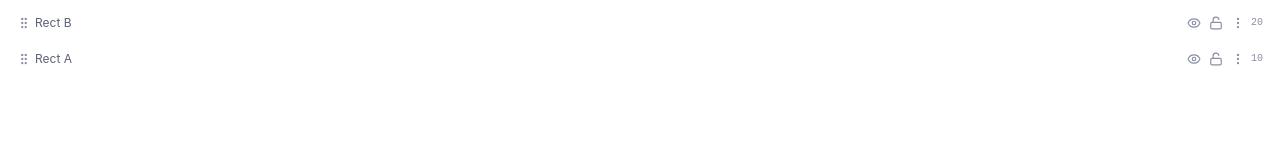
Scenario: Designer2 ObjectsPanel — layer row actions (M4) › renames an element via double-click on its row label
The width and height of the screenshot is (1280, 160).
Step 1. Double-click the button "Rect A" → [53, 58], box top-left (35, 51), bottom-right (1181, 67)
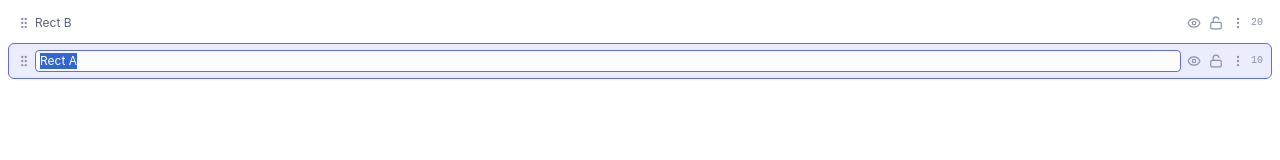
Step 2. Replace the text in the field showing "Rect A" with "Renamed" → [608, 61], box top-left (35, 50), bottom-right (1181, 72)
Then press Enter
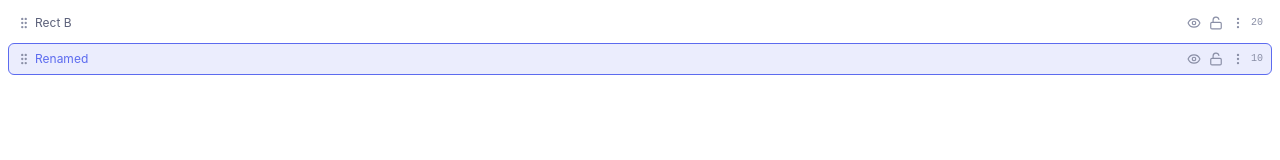
Result: the text "Renamed" is shown at top-left (35, 51), bottom-right (88, 66)
